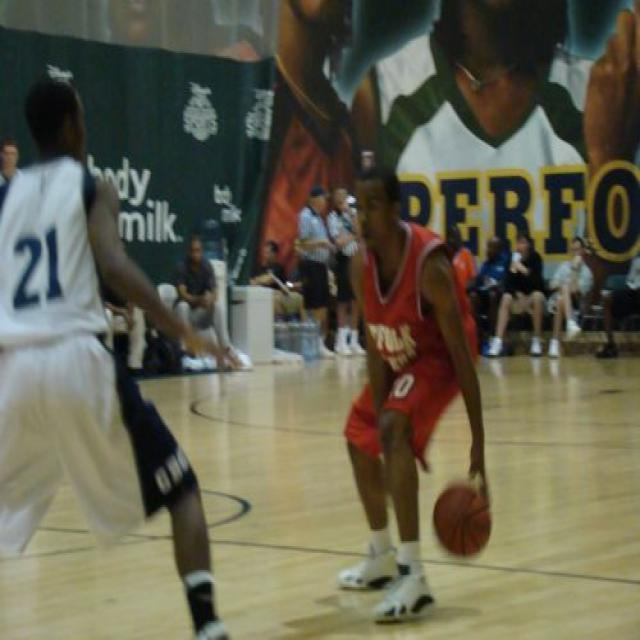basketball: (432, 483, 492, 558)
